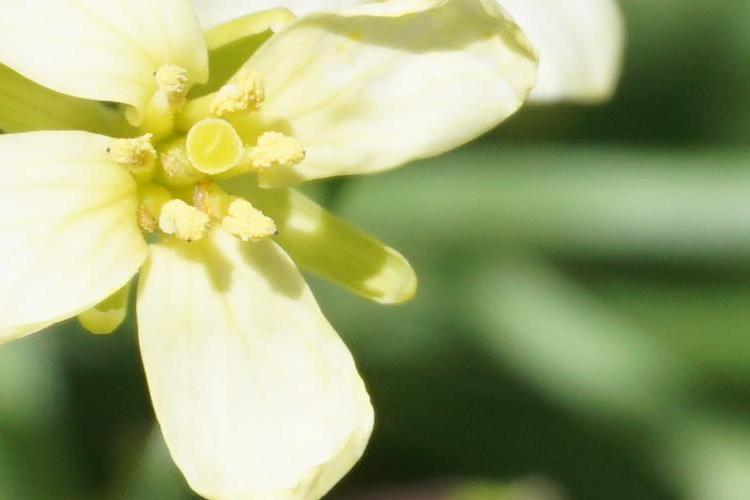white: (2, 11, 530, 484)
